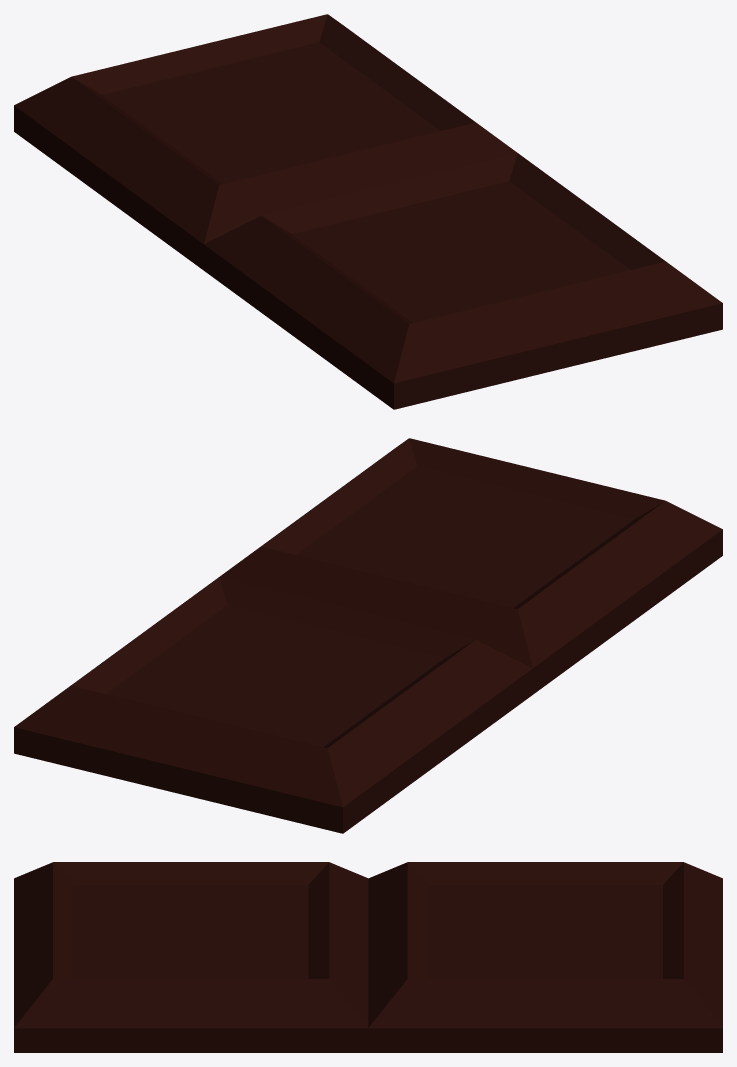
Rendered from chocolate.obj.
3 renders of one model, top to bottom at view 1: azimuth 30°, elevation 25°; view 2: azimuth 150°, elevation 25°; view 3: azimuth 270°, elevation 25°, orthographic. The views are drawn at different scales.
Visible parts, largest first — view 1: 立方体.001; view 2: 立方体.001; view 3: 立方体.001.
Boxes of the visible parts, x1,y1,x2,y2 form: 立方体.001: (14, 14, 722, 409); 立方体.001: (14, 438, 722, 833); 立方体.001: (14, 862, 722, 1052).
Bounding box in the file's own units: 2 × 0.3573 × 4.
